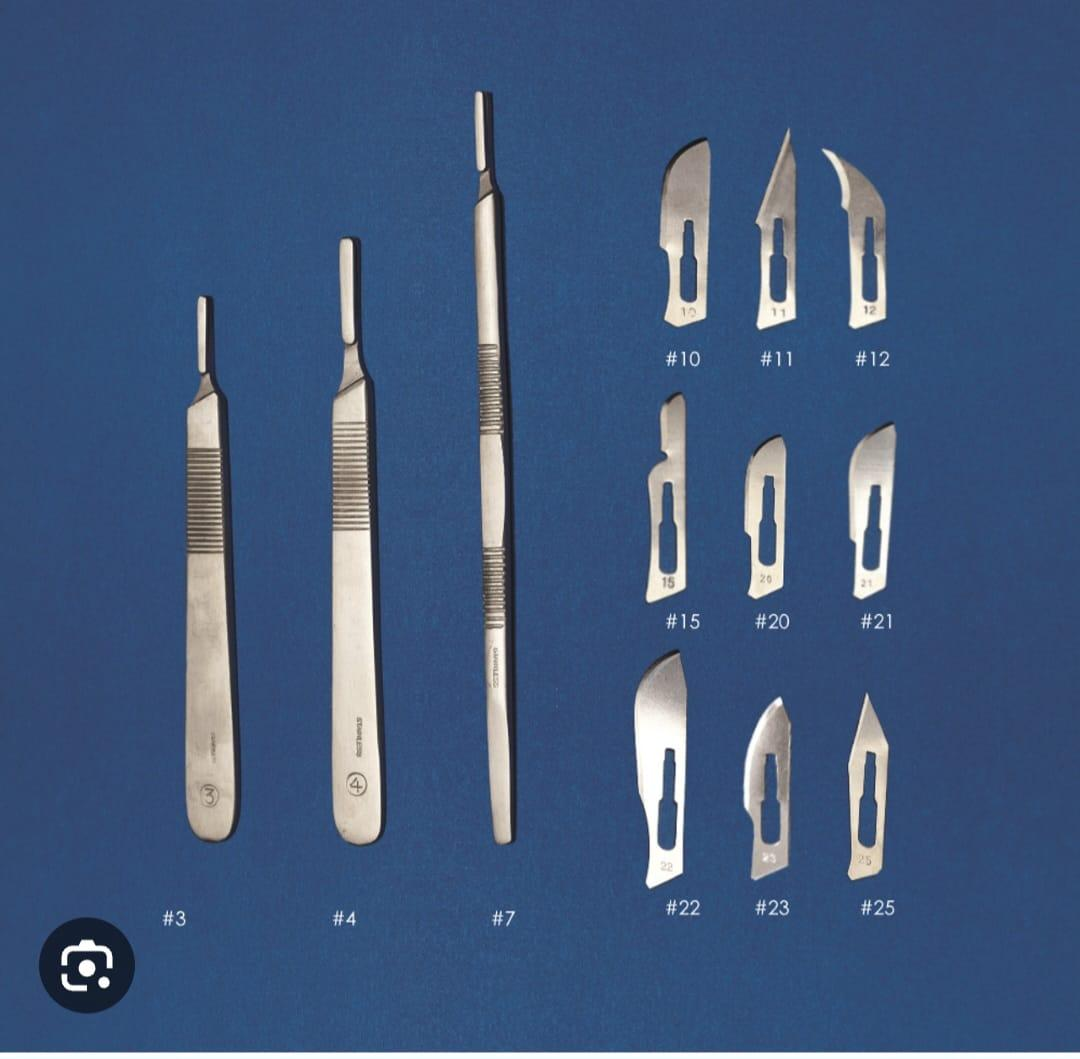Knife Blade: (632, 120, 745, 338), (617, 388, 715, 635), (615, 648, 710, 895), (812, 142, 923, 343), (832, 408, 932, 622), (725, 410, 815, 613), (733, 687, 820, 890), (745, 120, 813, 355), (842, 682, 913, 892)
Knife Handle: (445, 80, 542, 865), (313, 225, 405, 868), (157, 275, 252, 865)
